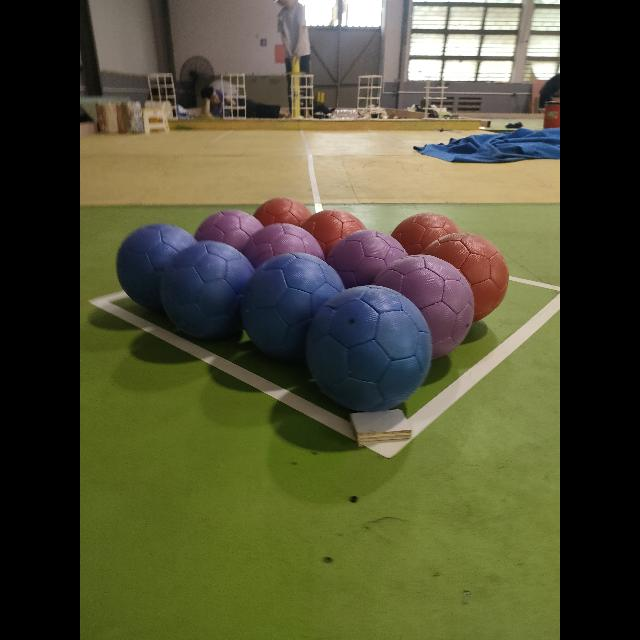B: (306, 285, 432, 411), (242, 260, 350, 358), (160, 242, 254, 338), (118, 225, 205, 317)
P: (372, 255, 474, 358), (191, 211, 265, 279), (245, 220, 328, 266)
R: (424, 234, 508, 320), (302, 210, 364, 256)
S: (142, 68, 182, 122), (286, 70, 318, 120), (216, 72, 247, 122), (355, 72, 387, 120), (419, 74, 451, 118)
